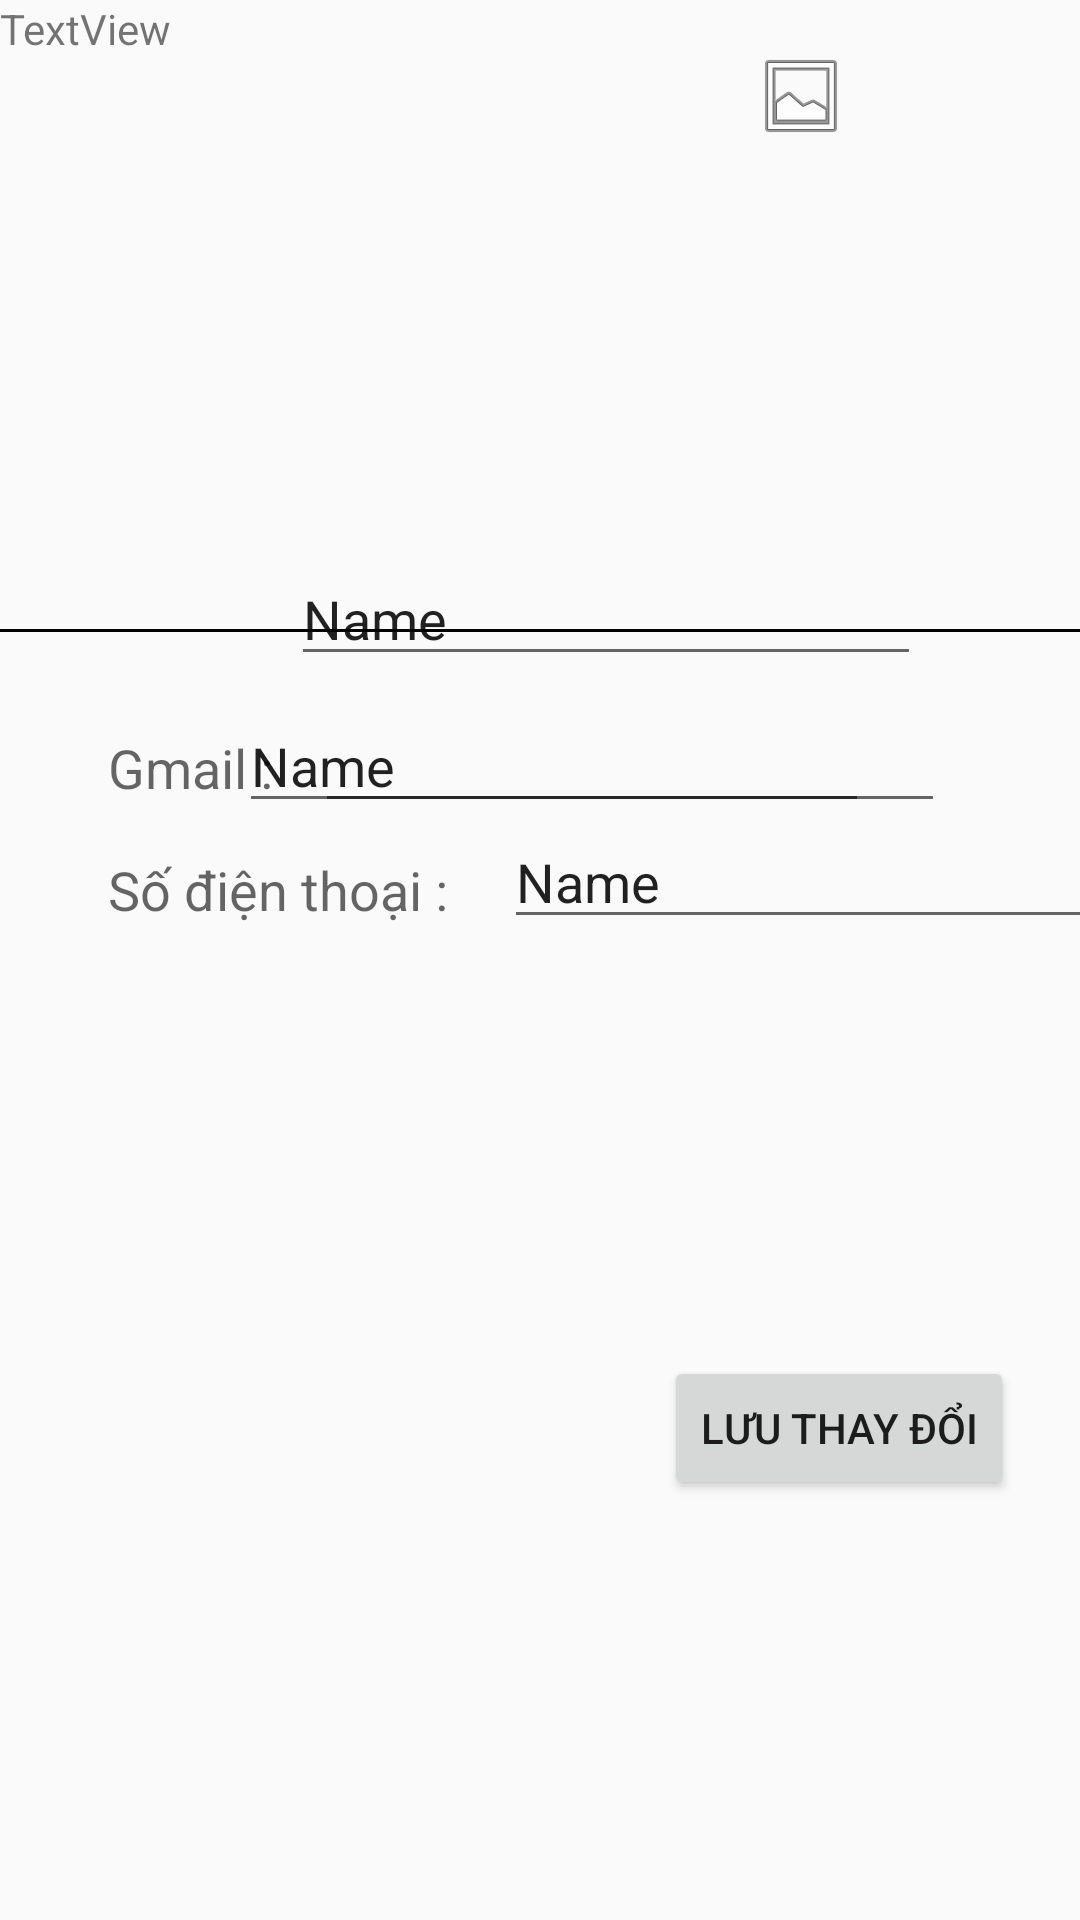

Icon click points for this 1080 x 1920 phone screenshot, format (x,y):
gallery: (801,96)
